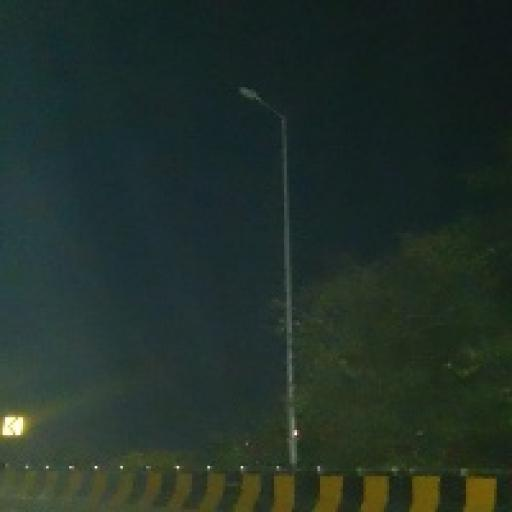Not Working: (234, 81, 263, 105)
